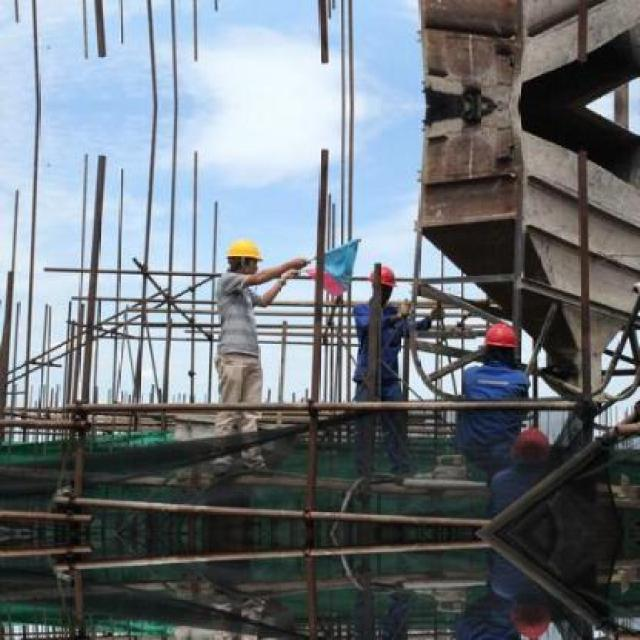helmet: (224, 232, 265, 278), (509, 424, 549, 469), (509, 595, 551, 637), (483, 318, 523, 359), (372, 260, 397, 300)
